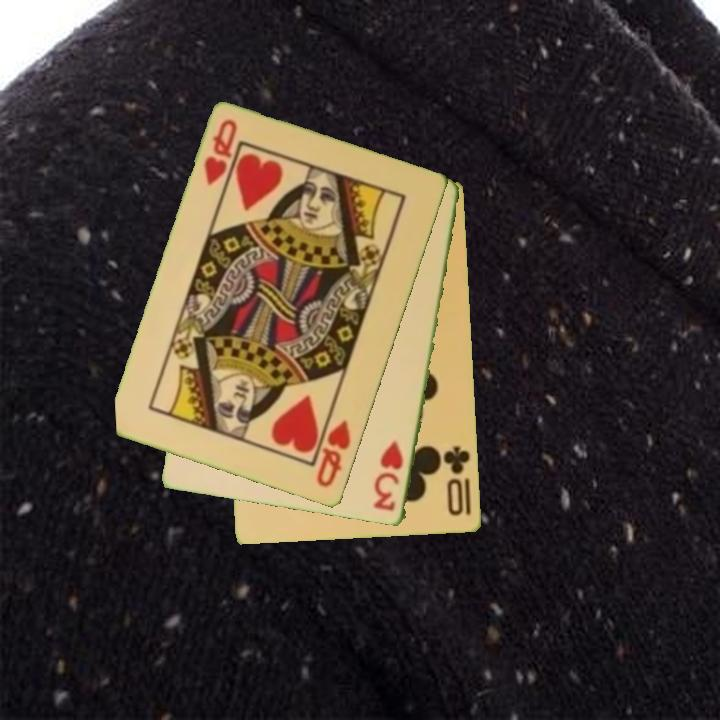10c: (440, 443, 474, 519)
3h: (371, 437, 407, 514)
Qh: (313, 416, 354, 491), (200, 116, 241, 189)
